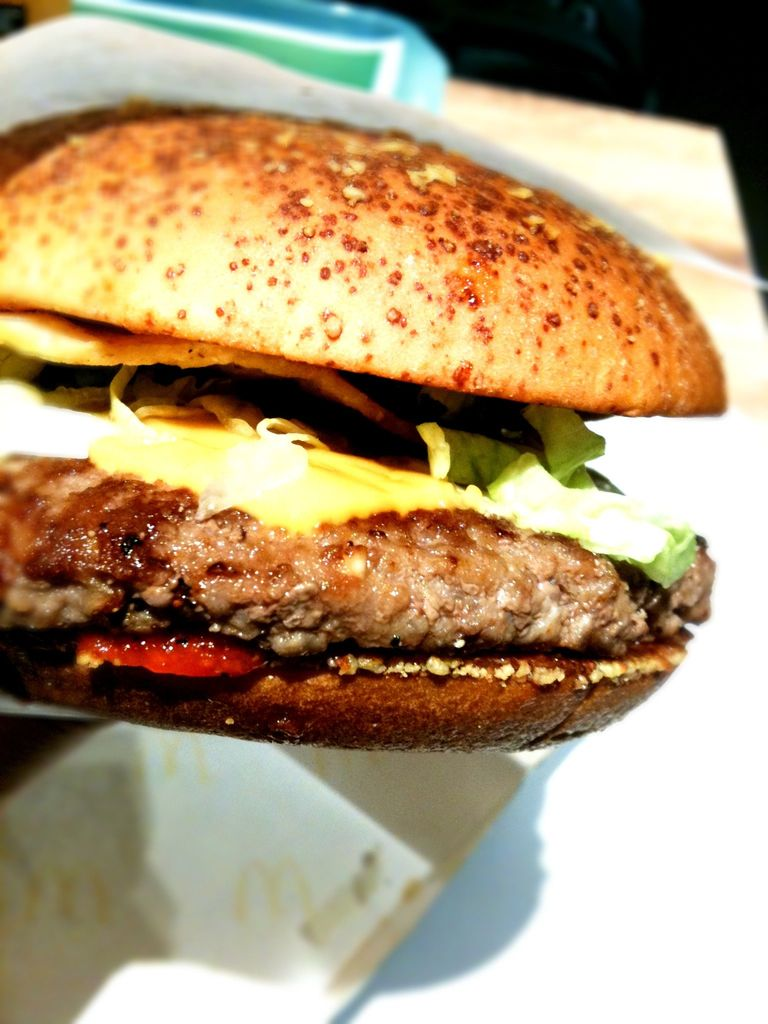Hamburger: (0, 100, 724, 749)
